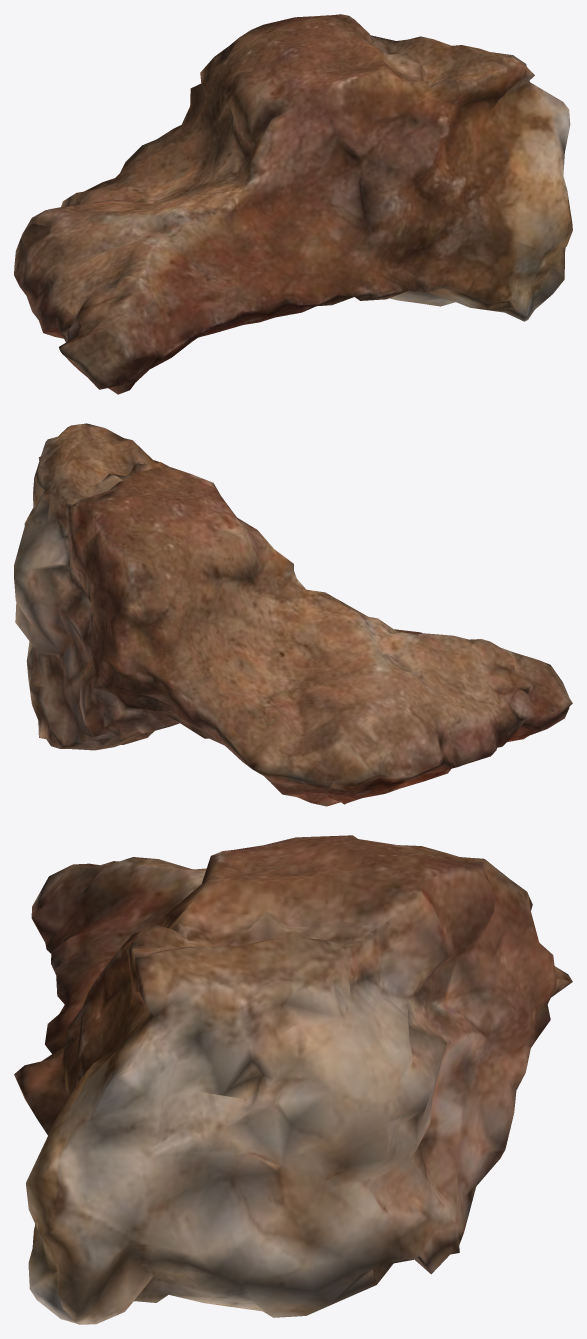
Rendered from stone_01.glb.
The picture shows the model from 3 angles, top to bottom: view 1: azimuth 30°, elevation 25°; view 2: azimuth 150°, elevation 25°; view 3: azimuth 270°, elevation 25°; orthographic projection. The views are drawn at different scales.
Parts seen in each view (by area): view 1: stone_01; view 2: stone_01; view 3: stone_01.
Boxes of the visible parts, x1,y1,x2,y2 form: stone_01: [14, 14, 572, 394]; stone_01: [14, 423, 572, 806]; stone_01: [14, 835, 572, 1324].
Bounding box in the file's own units: 0.1465 × 0.0718 × 0.089.
1 material, 1 textured.
